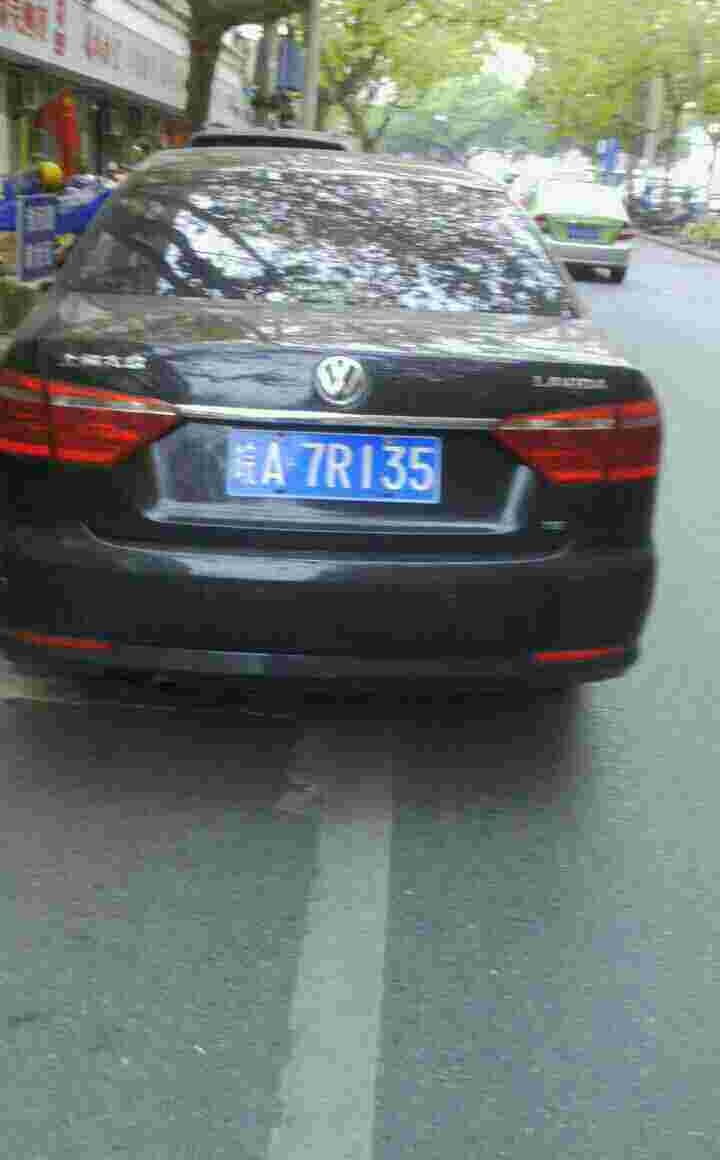license_plate: (217, 425, 452, 508)
